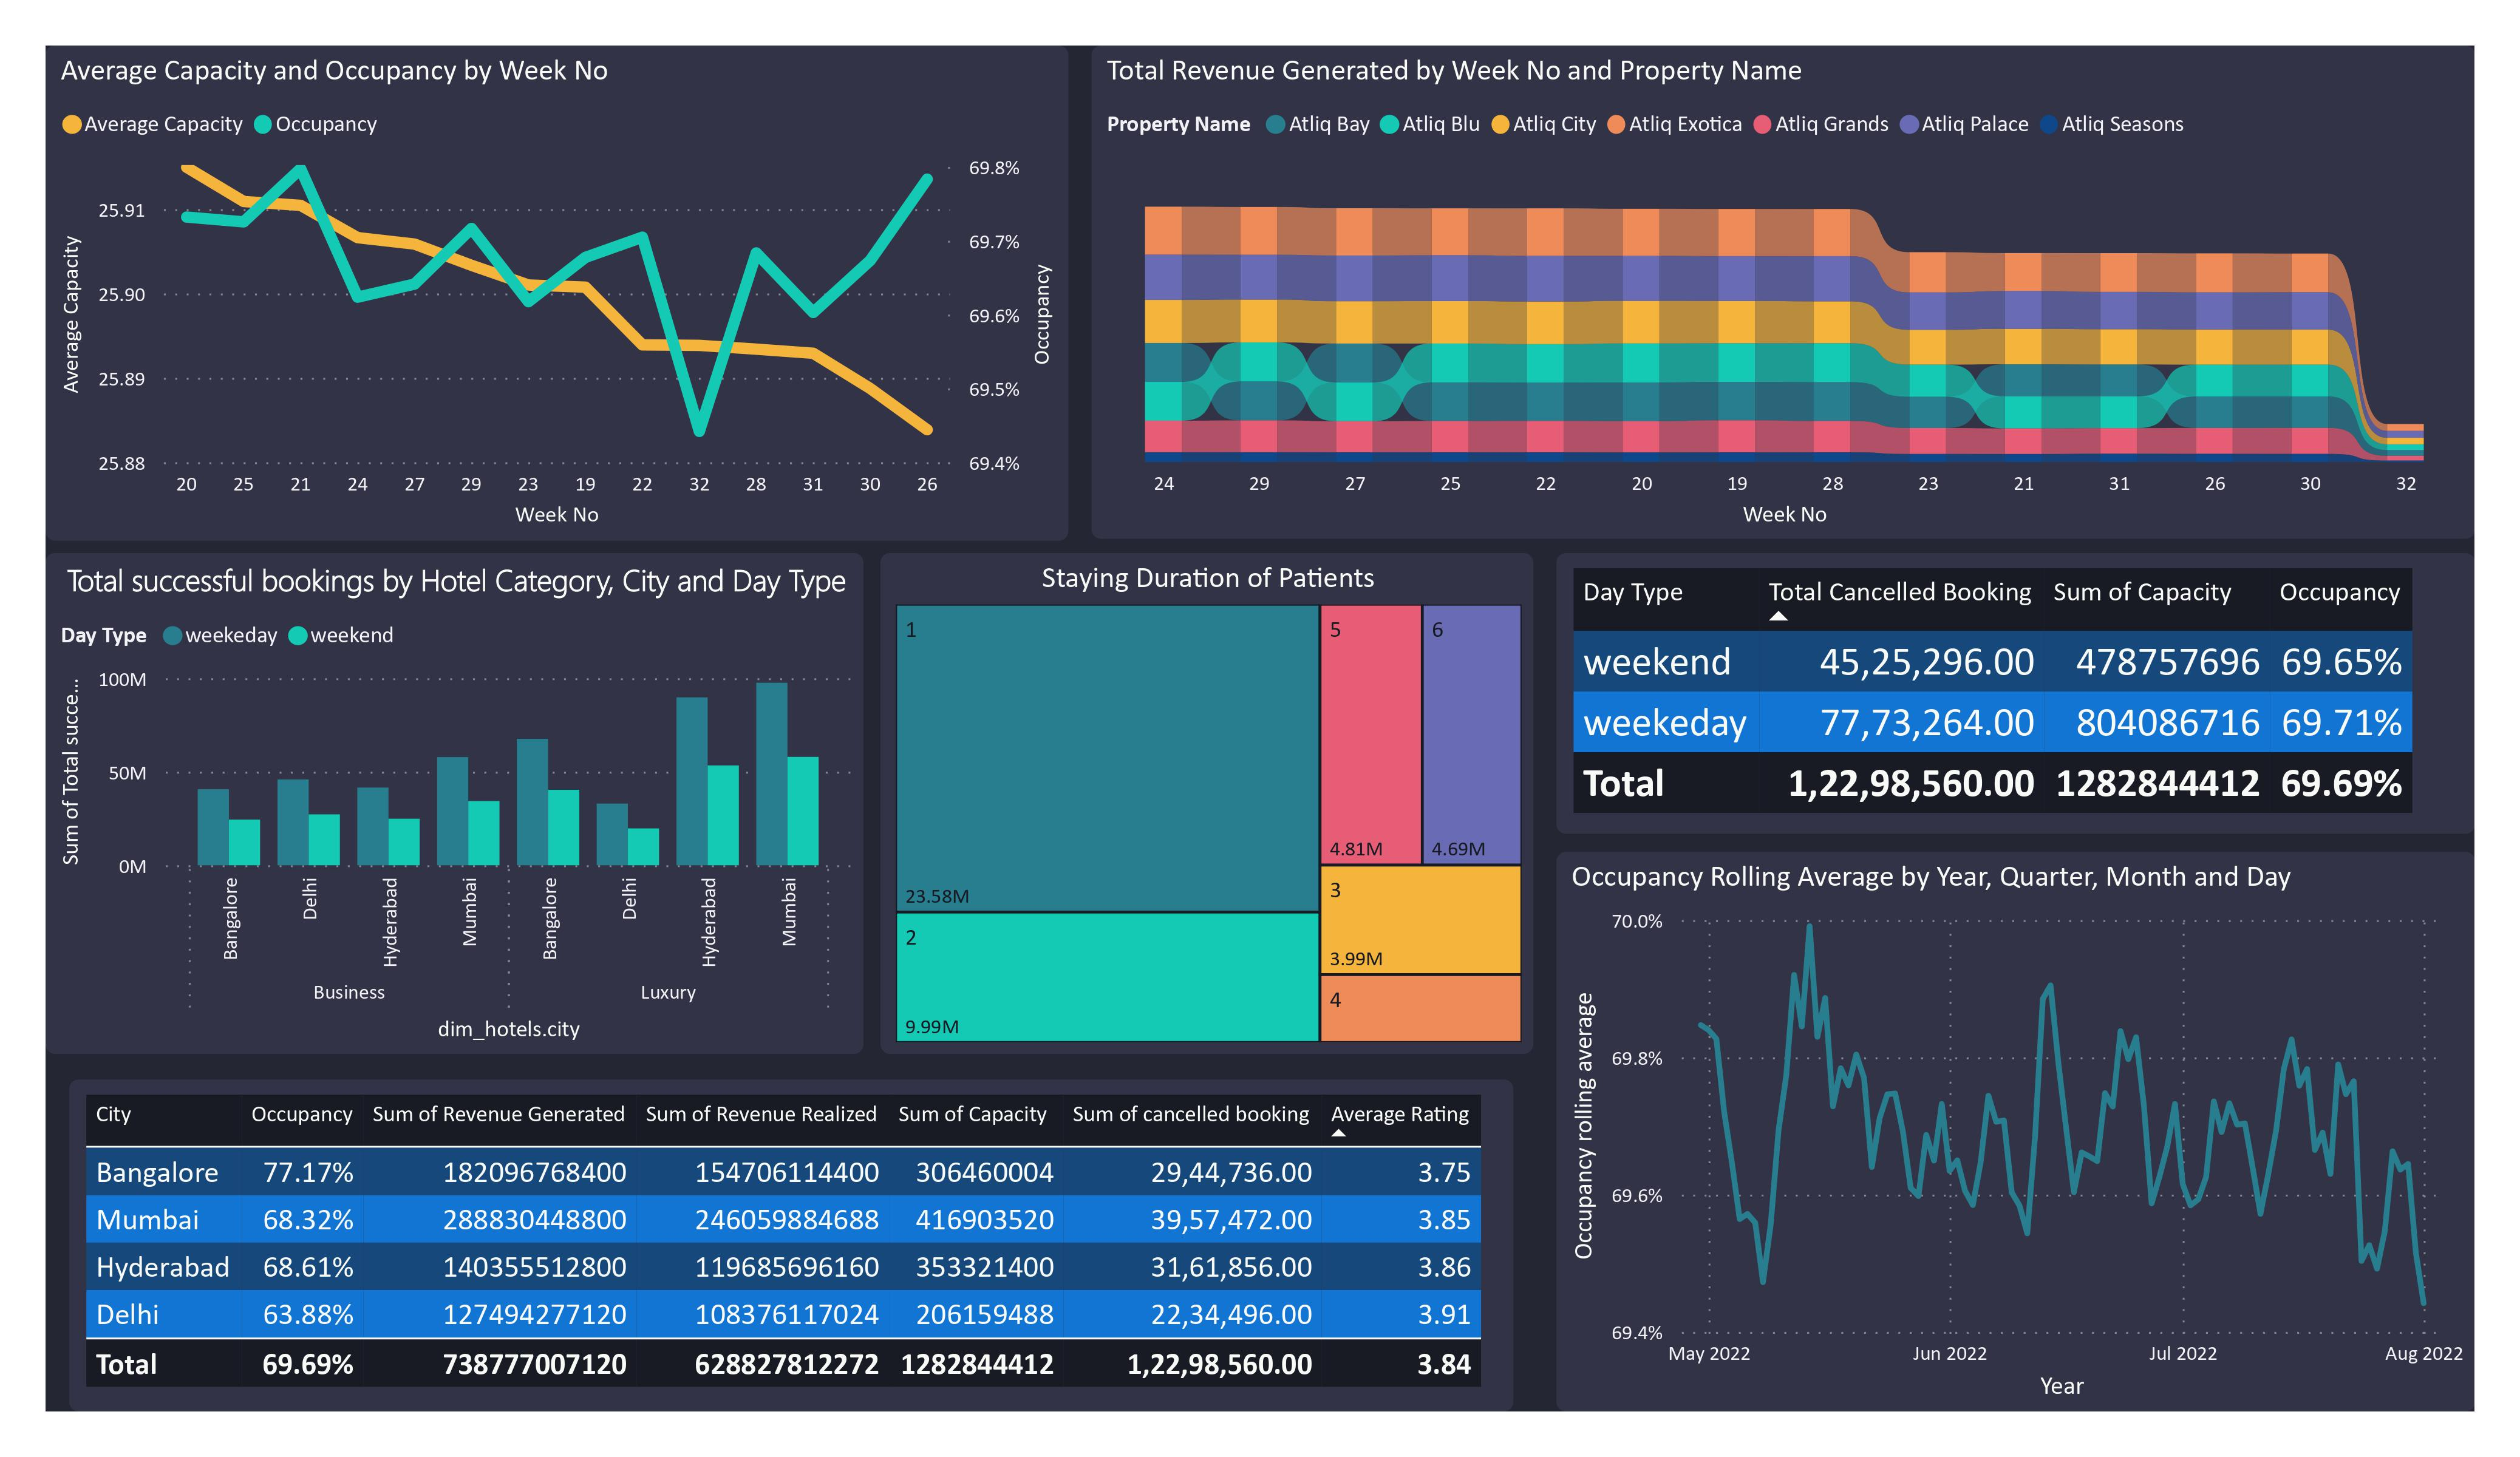

The dashboard page shown, as its layout file describes it:
{"tool":"powerbi","page":{"name":"Page 2","canvas":[1280,720],"ordinal":1},"visuals":[{"type":"clusteredColumnChart","title":"Total successful bookings by Hotel Category, City and Day Type","fields":{"Category":["Merge1.dim_hotels.category","Merge1.dim_hotels.city"],"Y":["Sum(Merge1.fact_aggregated_bookings.successful_bookings)"],"Series":["Merge1.dim_date.day_type"]},"box":[0,267.5,431.2,263.8],"z":0},{"type":"tableEx","fields":{"Values":["Merge1.dim_date.day_type","Sum(Merge1.cancelled booking)","Sum(Merge1.fact_aggregated_bookings.capacity)","Merge1.fact_aggregated_bookings.capacity % difference from fact_aggregated_bookings.successful_bookings"]},"box":[796.2,267.5,483.8,147.5],"z":1000},{"type":"tableEx","fields":{"Values":["Merge1.dim_hotels.city","Merge1.Occupancy","Sum(Merge1.revenue_generated)","Sum(Merge1.revenue_realized)","Sum(Merge1.Capacity)","Sum(Merge1.cancelled booking)","Avg(Merge1.ratings_given)"]},"box":[12.5,545,761.2,175],"z":2000},{"type":"treemap","title":"Staying Duration of Patients","fields":{"Values":["CountNonNull(Merge1.staying_duration)"],"Details":["Merge1.staying_duration"]},"box":[440,267.5,343.8,263.8],"z":3000},{"type":"lineChart","title":"Occupancy Rolling Average by Year, Quarter, Month and Day","fields":{"Y":["Merge1.Occupancy rolling average"],"Category":["Merge1.check_in_date.Variation.Date Hierarchy.Year","Merge1.check_in_date.Variation.Date Hierarchy.Quarter","Merge1.check_in_date.Variation.Date Hierarchy.Month","Merge1.check_in_date.Variation.Date Hierarchy.Day"]},"box":[796,424.5,483.6,295.5],"z":4000},{"type":"ribbonChart","title":"Total Revenue Generated by Week No and Property Name","fields":{"Y":["Sum(Merge1.revenue_generated)"],"Category":["Merge1.dim_date.week no"],"Series":["Merge1.dim_hotels.property_name"]},"box":[551.2,0,728.8,260],"z":5001},{"type":"lineChart","title":"Average Capacity and Occupancy by Week No","fields":{"Category":["Merge1.dim_date.week no"],"Y2":["Merge1.Occupancy"],"Y":["Avg(Merge1.Capacity)"]},"box":[0,0,539.1,260.5],"z":5002}]}

Visuals, with their boxes in screenshot pixels (x1, y1, x2, y2):
"Total successful bookings by Hotel Category, City and Day Type" clusteredColumnChart: bbox=(46, 553, 863, 1053)
tableEx - Merge1.dim_date.day_type x Sum(Merge1.cancelled booking): bbox=(1556, 553, 2474, 833)
tableEx - Merge1.dim_hotels.city x Merge1.Occupancy: bbox=(69, 1079, 1514, 1411)
"Staying Duration of Patients" treemap: bbox=(880, 553, 1533, 1053)
"Occupancy Rolling Average by Year, Quarter, Month and Day" lineChart: bbox=(1556, 851, 2474, 1411)
"Total Revenue Generated by Week No and Property Name" ribbonChart: bbox=(1092, 46, 2474, 539)
"Average Capacity and Occupancy by Week No" lineChart: bbox=(46, 46, 1069, 540)
